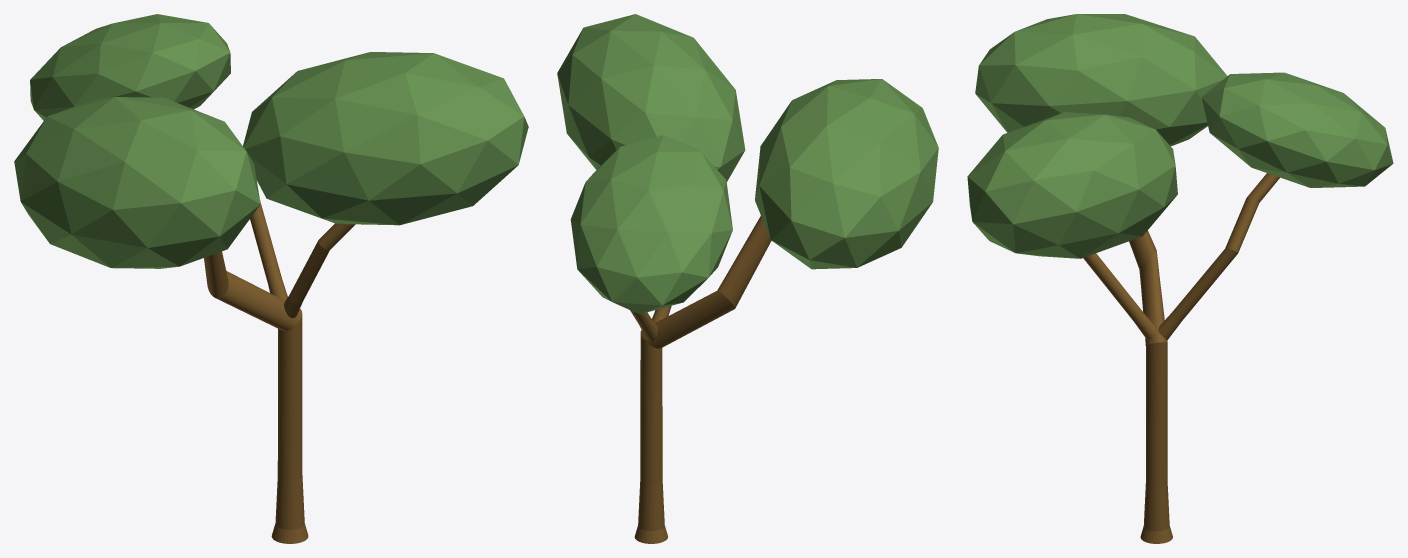
Rendered from Tree.fbx.
3 views of the same model, side by side, from view 1: azimuth 30°, elevation 25°; view 2: azimuth 150°, elevation 25°; view 3: azimuth 270°, elevation 25° (orthographic). The views are drawn at different scales.
Visible parts, largest first — view 1: Cylinder.041, Cylinder.036, Cylinder.035, Cylinder.012, Cylinder.023, Cylinder.020; view 2: Cylinder.036, Cylinder.035, Cylinder.041, Cylinder.012; view 3: Cylinder.041, Cylinder.036, Cylinder.035, Cylinder.012, Cylinder.020, Cylinder.023.
Part boxes in pixels (x1,y1,x2,y2): Cylinder.041: [243, 52, 528, 225]; Cylinder.036: [14, 97, 260, 268]; Cylinder.035: [30, 14, 230, 120]; Cylinder.012: [204, 251, 308, 543]; Cylinder.023: [284, 223, 355, 318]; Cylinder.020: [250, 200, 287, 300]; Cylinder.036: [755, 79, 938, 269]; Cylinder.035: [570, 135, 732, 314]; Cylinder.041: [557, 14, 745, 181]; Cylinder.012: [634, 216, 771, 543]; Cylinder.041: [967, 112, 1177, 258]; Cylinder.036: [975, 14, 1227, 146]; Cylinder.035: [1201, 72, 1393, 187]; Cylinder.012: [1129, 230, 1172, 543]; Cylinder.020: [1158, 173, 1279, 339]; Cylinder.023: [1083, 253, 1167, 341].
Bounding box in the file's own units: 739 × 819 × 720.
